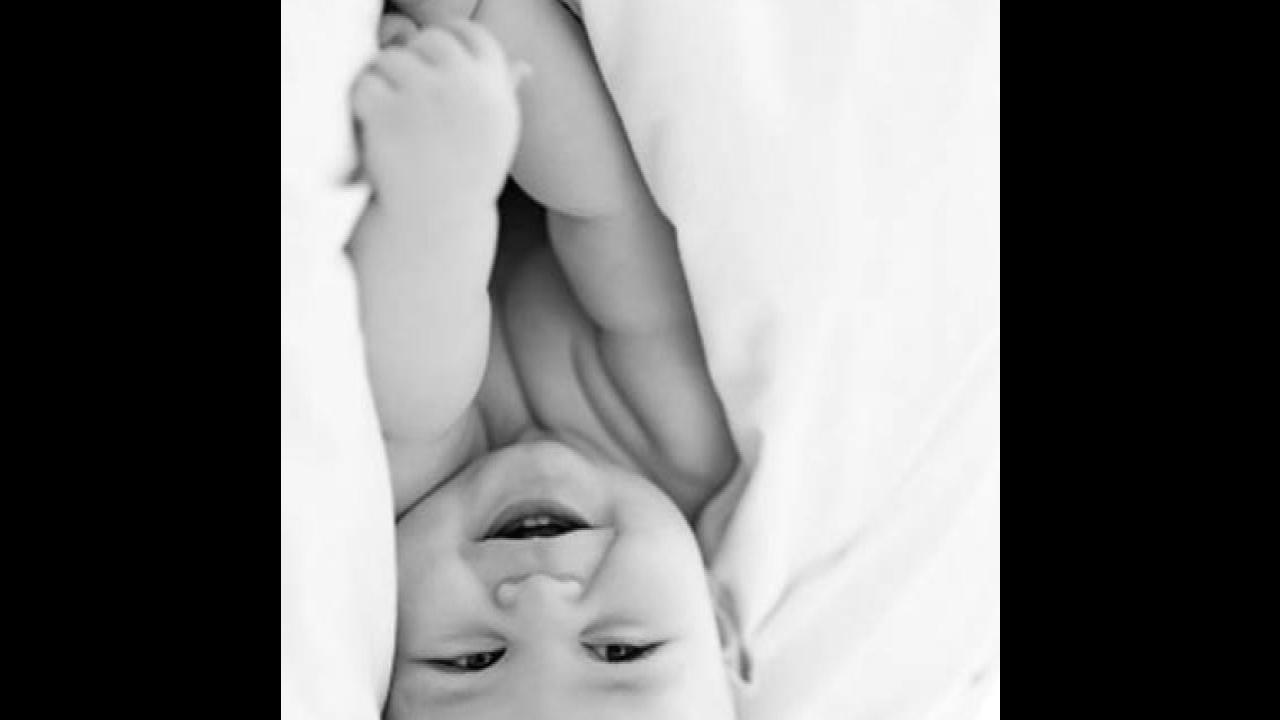hand: (350, 17, 526, 235)
